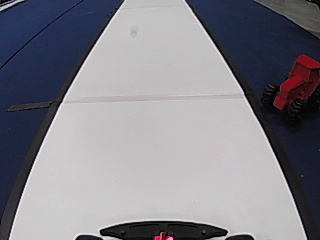tractor: (262, 53, 319, 124)
